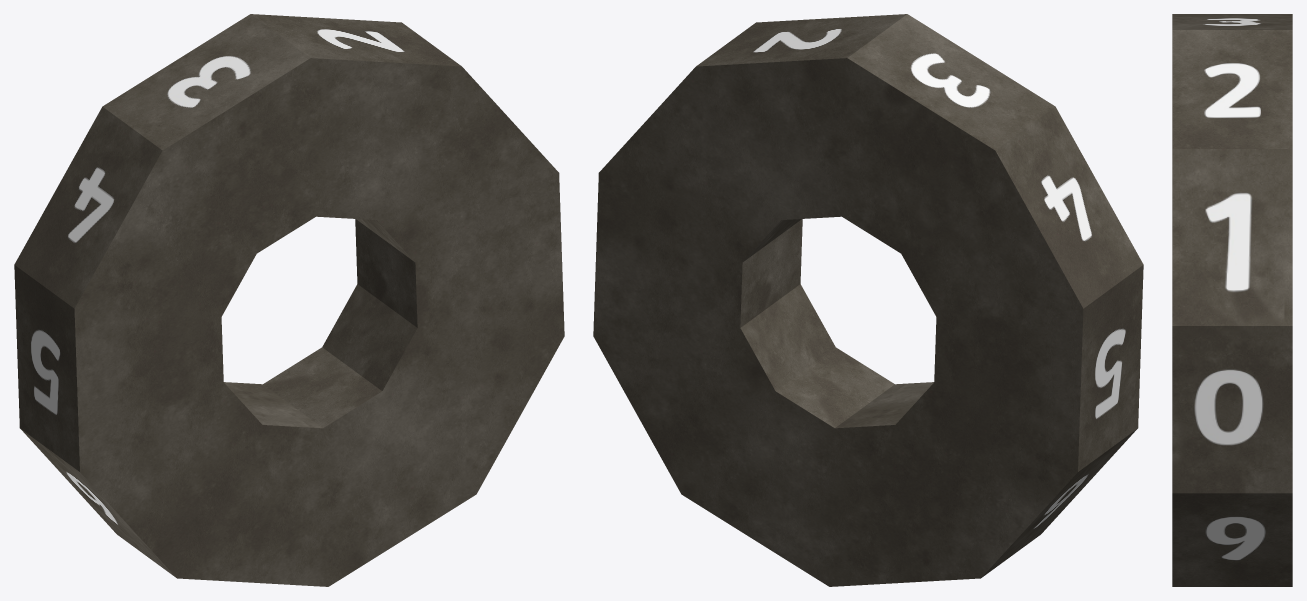
File: Lock.fbx
3 renders of one model, left to right at view 1: azimuth 30°, elevation 25°; view 2: azimuth 150°, elevation 25°; view 3: azimuth 270°, elevation 25°, orthographic.
Parts seen in each view (by area): view 1: Lock; view 2: Lock; view 3: Lock.
Boxes of the visible parts, bbox=[...] form: Lock: bbox=[14, 14, 564, 586]; Lock: bbox=[593, 14, 1143, 586]; Lock: bbox=[1172, 14, 1292, 586].
Bounding box in the file's own units: 1.92 × 2 × 0.409.
